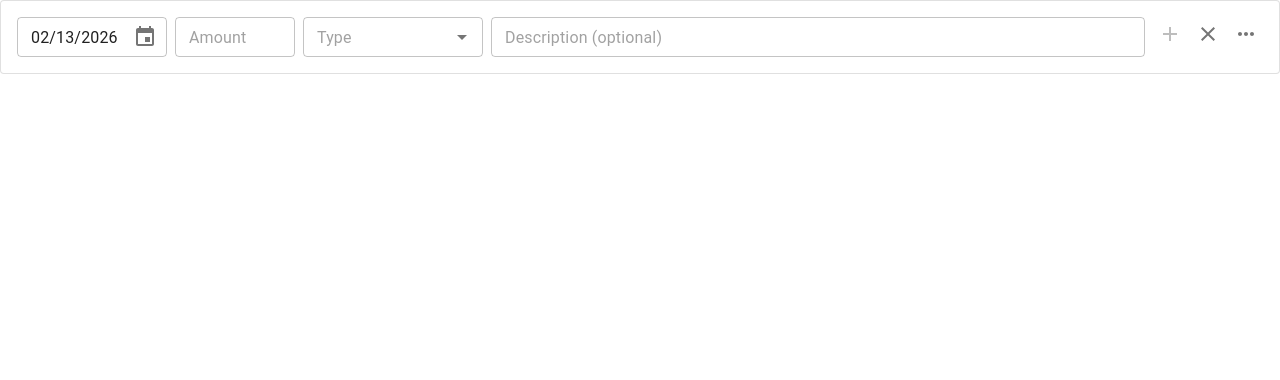
Test: QuickEntryRow › Default Account Fields › should show account fields when transaction type has no defaults
Note: Select transaction type without defaults
Click the dropdown with placeholder "Type".
click(376, 37)  # box left=309, top=23, right=444, bottom=51
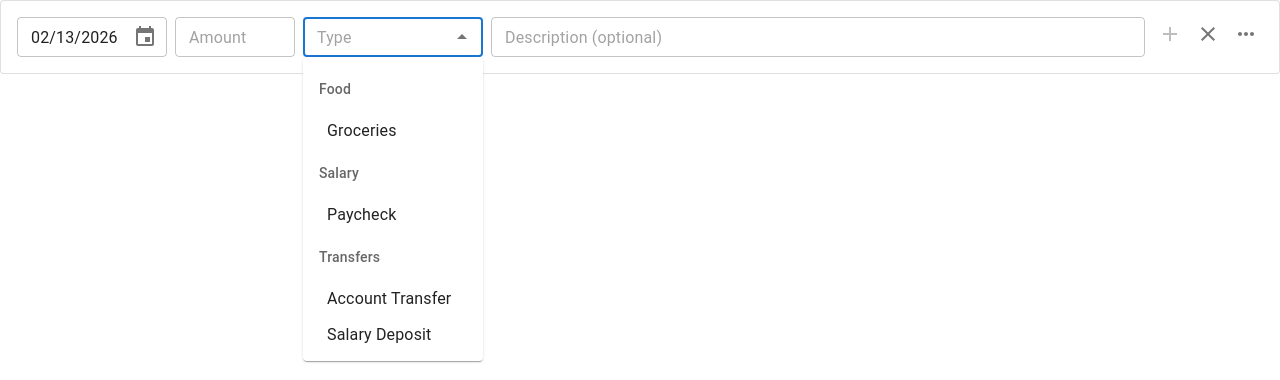
Click the option "Account Transfer".
click(389, 298)  # box left=327, top=289, right=451, bottom=308
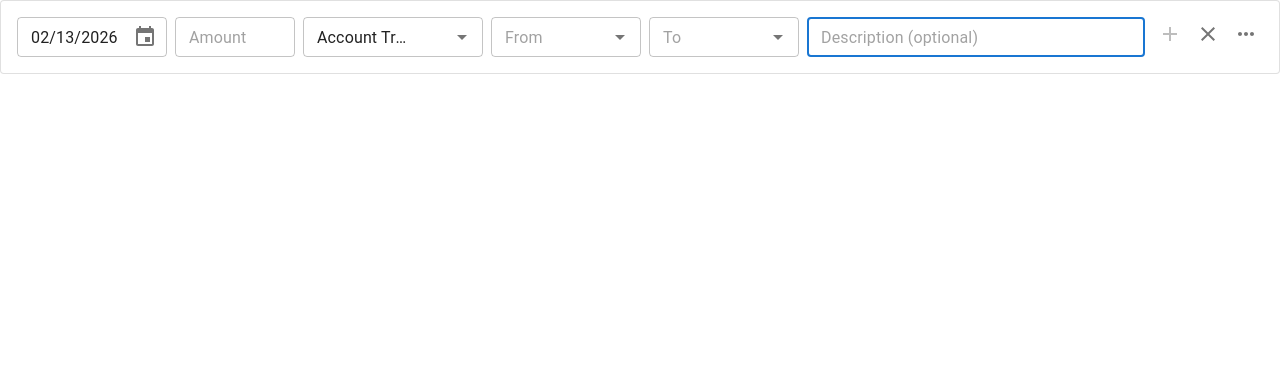
Now the dropdown with placeholder "From" is shown, box left=497, top=23, right=602, bottom=51
Now the dropdown with placeholder "To" is shown, box left=655, top=23, right=760, bottom=51
